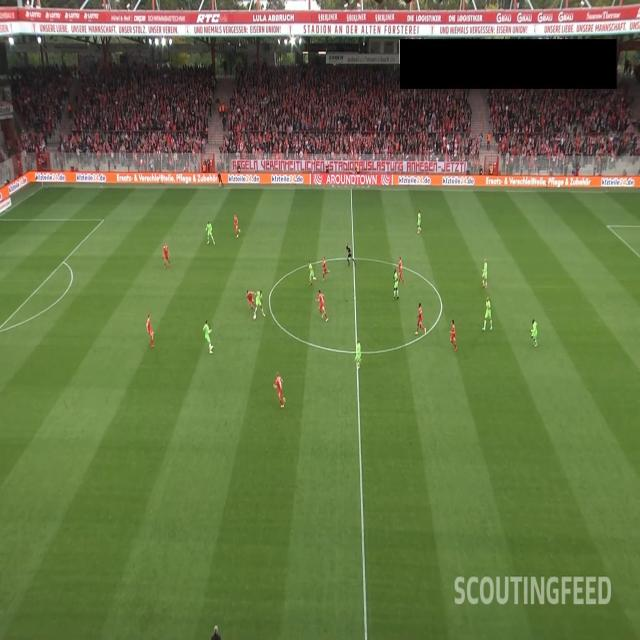ball: (253, 314, 256, 321)
